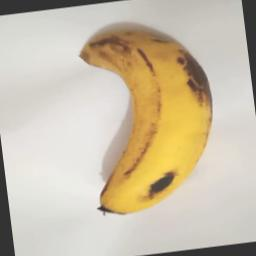Banana Unripe: (76, 20, 224, 220)
